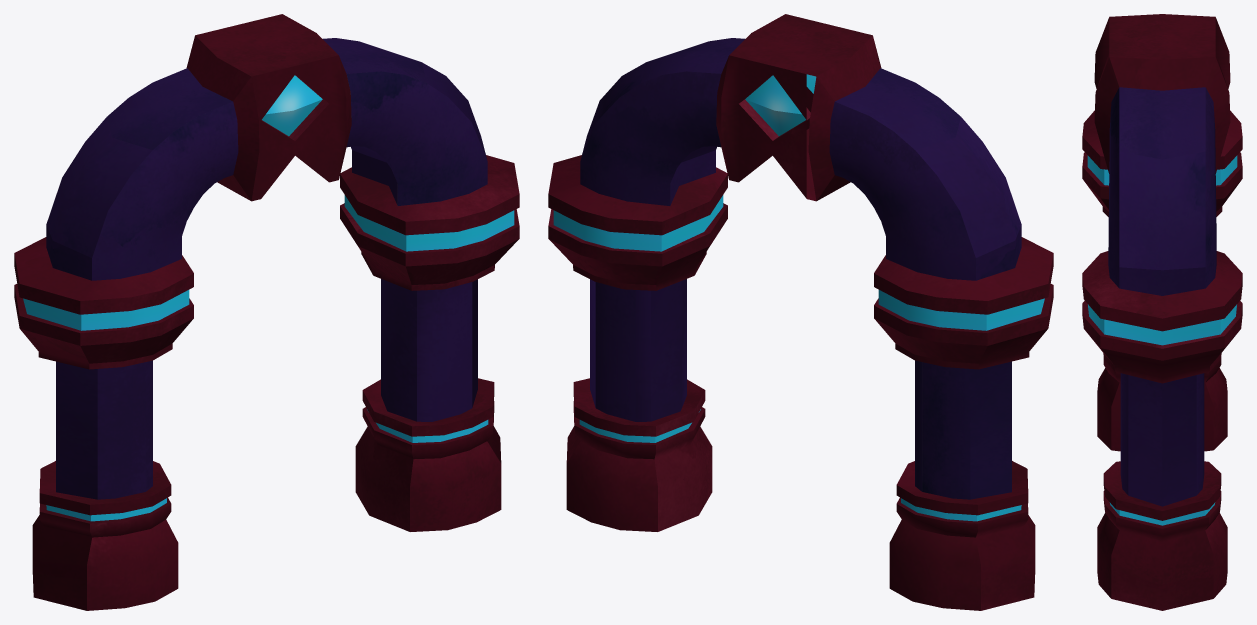
Rendered from ARCO2_R.obj.
The picture shows the model from 3 angles, left to right: view 1: azimuth 30°, elevation 25°; view 2: azimuth 150°, elevation 25°; view 3: azimuth 270°, elevation 25°; orthographic projection. The views are drawn at different scales.
Visible parts, largest first — view 1: pCube1_pCube1SG1_21, pCube1_pCube1SG1_20, pCube1_pCube1SG1_31, pCube1_pCube1SG1_11, pCube1_pCube1SG1_39, pCube1_pCube1SG_35, pCube1_pCube1SG1_25, pCube1_pCube1SG1_30, pCube1_pCube1SG1_13, pCube1_pCube1SG_4, pCube1_pCube1SG1_3, pCube1_pCube1SG1_19 (+53 smaller); view 2: pCube1_pCube1SG1_25, pCube1_pCube1SG1_24, pCube1_pCube1SG1_28, pCube1_pCube1SG1_36, pCube1_pCube1SG1_8, pCube1_pCube1SG_4, pCube1_pCube1SG1_21, pCube1_pCube1SG1_29, pCube1_pCube1SG1_15, pCube1_pCube1SG1_16, pCube1_pCube1SG1_7, pCube1_pCube1SG_8 (+51 smaller); view 3: pCube1_pCube1SG1_5, pCube1_pCube1SG1_1, pCube1_pCube1SG_4, pCube1_pCube1SG1, pCube1_pCube1SG1_4, pCube1_pCube1SG_5, pCube1_pCube1SG_1, pCube1_pCube1SG_28, pCube1_pCube1SG, pCube1_pCube1SG_8, pCube1_pCube1SG_10, pCube1_pCube1SG1_16 (+46 smaller).
Part boxes in pixels (left/top/right/bottom): pCube1_pCube1SG1_21: left=53, top=86, right=232, bottom=280; pCube1_pCube1SG1_20: left=56, top=361, right=97, bottom=499; pCube1_pCube1SG1_31: left=120, top=120, right=238, bottom=278; pCube1_pCube1SG1_11: left=350, top=90, right=469, bottom=201; pCube1_pCube1SG1_39: left=92, top=102, right=237, bottom=280; pCube1_pCube1SG_35: left=34, top=66, right=295, bottom=564; pCube1_pCube1SG1_25: left=46, top=68, right=202, bottom=267; pCube1_pCube1SG1_30: left=115, top=362, right=145, bottom=498; pCube1_pCube1SG1_13: left=346, top=123, right=440, bottom=205; pCube1_pCube1SG_4: left=369, top=378, right=493, bottom=531; pCube1_pCube1SG1_3: left=387, top=281, right=416, bottom=421; pCube1_pCube1SG1_19: left=346, top=71, right=487, bottom=193; pCube1_pCube1SG1_25: left=835, top=86, right=1014, bottom=280; pCube1_pCube1SG1_24: left=970, top=361, right=1011, bottom=499; pCube1_pCube1SG1_28: left=829, top=121, right=947, bottom=278; pCube1_pCube1SG1_36: left=830, top=102, right=975, bottom=280; pCube1_pCube1SG1_8: left=598, top=91, right=717, bottom=201; pCube1_pCube1SG_4: left=566, top=55, right=772, bottom=514; pCube1_pCube1SG1_21: left=865, top=68, right=1021, bottom=267; pCube1_pCube1SG1_29: left=922, top=362, right=952, bottom=498; pCube1_pCube1SG1_15: left=627, top=122, right=721, bottom=205; pCube1_pCube1SG1_16: left=580, top=71, right=721, bottom=193; pCube1_pCube1SG1_7: left=651, top=281, right=680, bottom=421; pCube1_pCube1SG_8: left=651, top=74, right=772, bottom=531; pCube1_pCube1SG1_5: left=1162, top=87, right=1205, bottom=295; pCube1_pCube1SG1_1: left=1119, top=87, right=1162, bottom=295; pCube1_pCube1SG_4: left=1111, top=53, right=1228, bottom=610; pCube1_pCube1SG1: left=1128, top=375, right=1162, bottom=506; pCube1_pCube1SG1_4: left=1162, top=375, right=1196, bottom=506; pCube1_pCube1SG_5: left=1162, top=288, right=1224, bottom=383; pCube1_pCube1SG_1: left=1100, top=288, right=1162, bottom=383; pCube1_pCube1SG_28: left=1098, top=504, right=1226, bottom=598; pCube1_pCube1SG: left=1097, top=53, right=1162, bottom=567; pCube1_pCube1SG_8: left=1162, top=461, right=1213, bottom=610; pCube1_pCube1SG_10: left=1101, top=93, right=1230, bottom=535; pCube1_pCube1SG1_16: left=1205, top=88, right=1215, bottom=287.
Bounding box in the file's own units: 543 × 519 × 161.
Materials: 3 (3 with a texture image).
